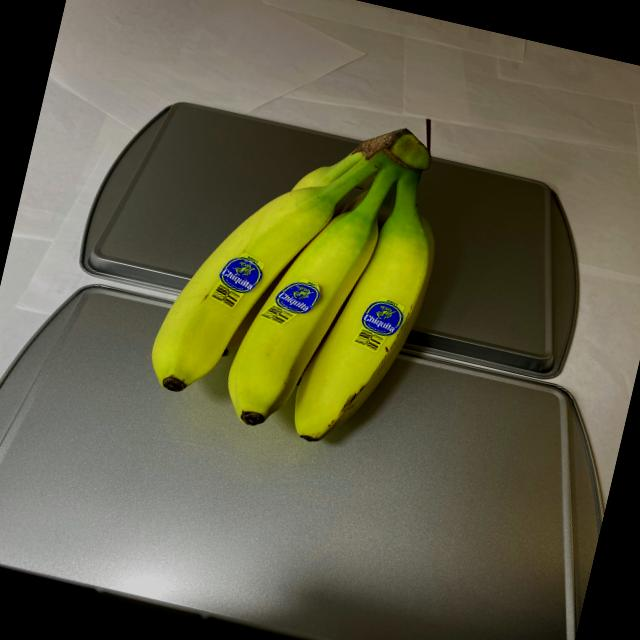banana: (132, 86, 465, 476)
